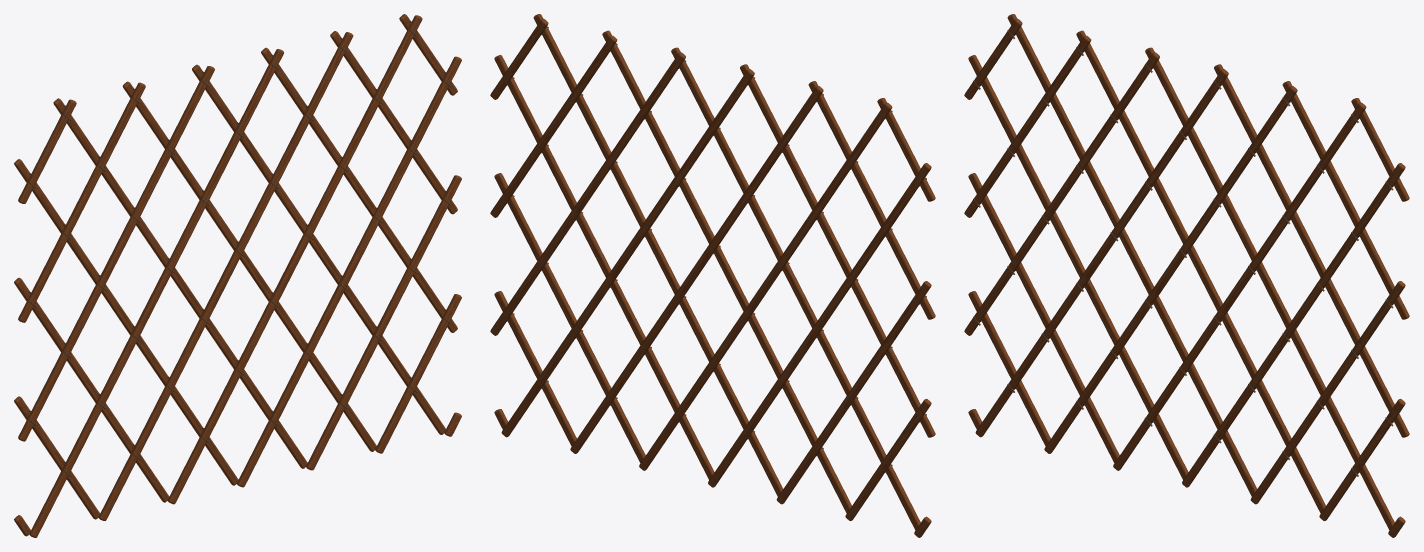
The model's file is kerege-wall-lattice.glb.
3 views of the same model, side by side, from view 1: azimuth 30°, elevation 25°; view 2: azimuth 150°, elevation 25°; view 3: azimuth 330°, elevation 25° (orthographic).
Parts seen in each view (by area): view 1: Kerege lattice wall panel; view 2: Kerege lattice wall panel; view 3: Kerege lattice wall panel.
Part boxes in pixels (x1,y1,x2,y2): Kerege lattice wall panel: (14, 14, 461, 537); Kerege lattice wall panel: (490, 14, 935, 537); Kerege lattice wall panel: (964, 14, 1409, 537).
Size of the model in its own units: 1.76 by 1.63 by 0.0491.
Materials: 2 (1 with a texture image).
